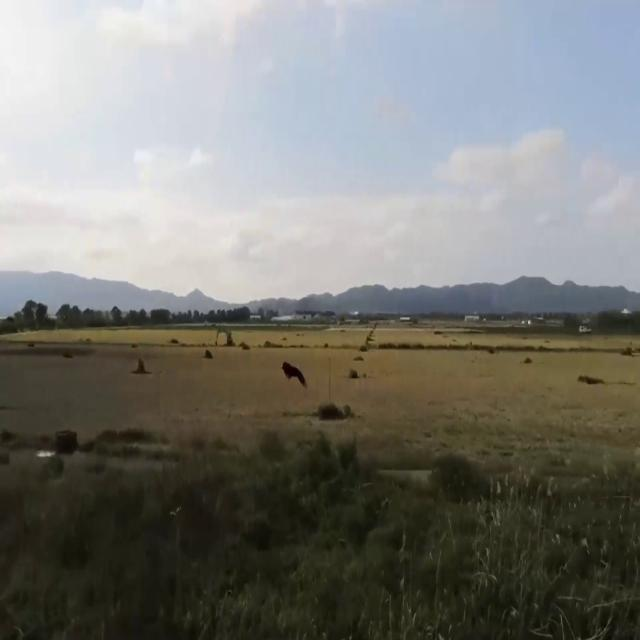bird: (281, 347, 307, 404)
